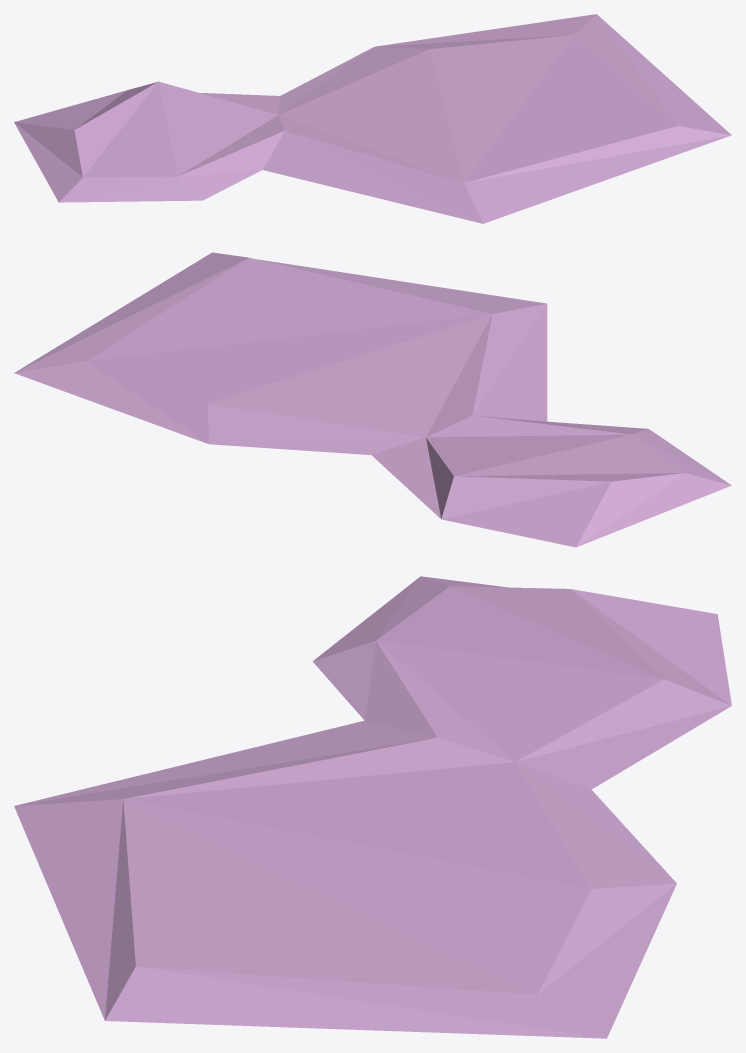
The model's file is MassiveBullet_Puddle_4.dae.
3 renders of one model, top to bottom at view 1: azimuth 30°, elevation 25°; view 2: azimuth 150°, elevation 25°; view 3: azimuth 270°, elevation 25°, orthographic. The views are drawn at different scales.
Parts seen in each view (by area): view 1: Cube; view 2: Cube; view 3: Cube.
Part boxes in pixels (x1=…): Cube: x1=14, y1=14, x2=731, y2=223; Cube: x1=14, y1=252, x2=731, y2=547; Cube: x1=14, y1=576, x2=731, y2=1038.
Size of the model in its own units: 8.51 by 5.58 by 0.3094.
